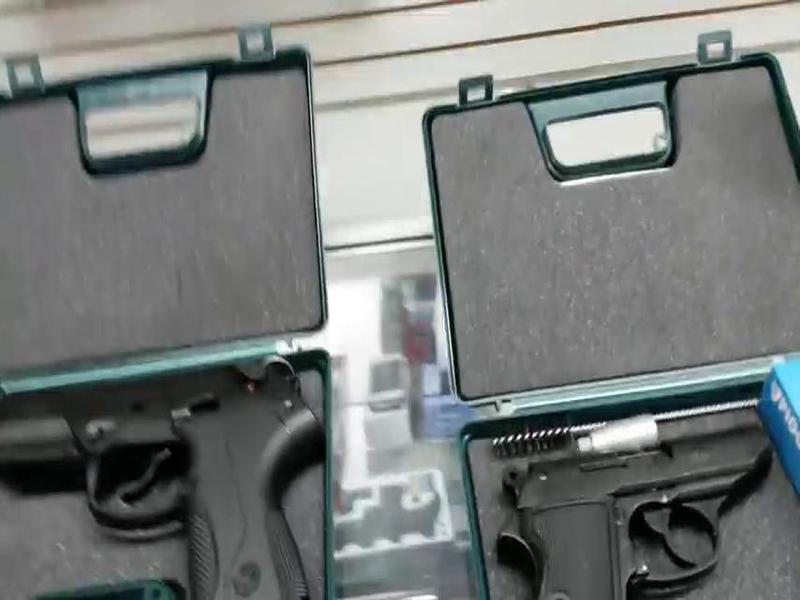Pistola: (8, 356, 331, 585), (483, 434, 800, 582)
